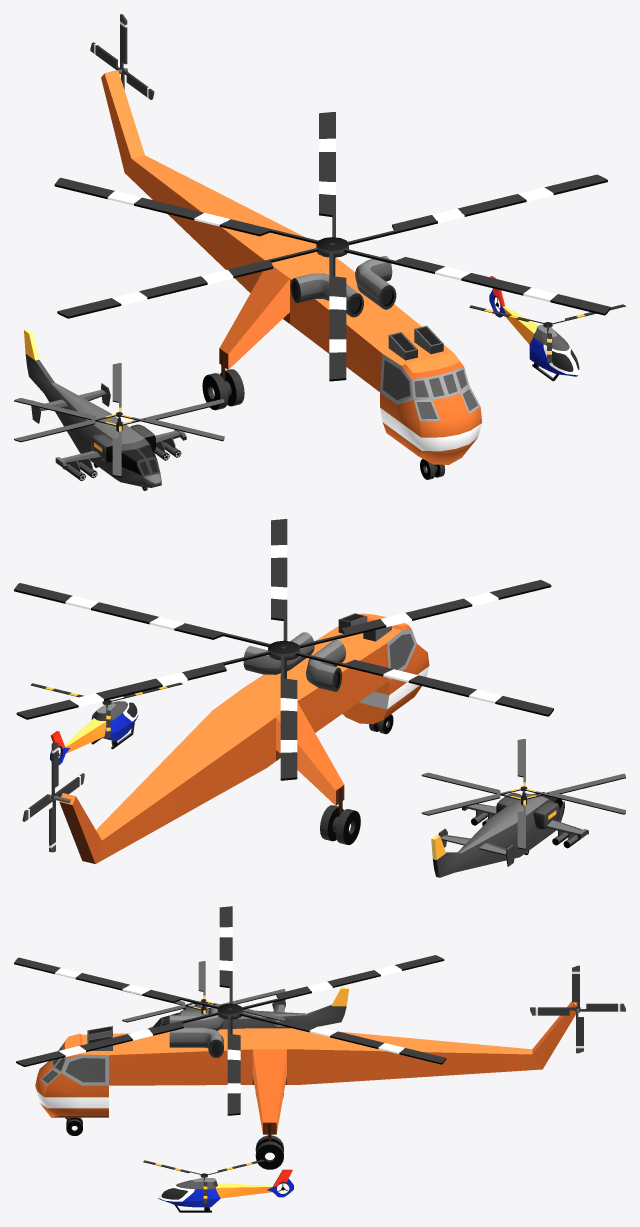
3 views of the same model, one above another, from view 1: azimuth 30°, elevation 25°; view 2: azimuth 150°, elevation 25°; view 3: azimuth 270°, elevation 25° (orthographic). The views are drawn at different scales.
Parts seen in each view (by area): view 1: Body.003, Rotor.001, Body.004, Body.005, Rotor_Twin_Upper, Rotor_Twin_Lower, Rotor_Back.003; view 2: Body.003, Rotor.001, Body.004, Body.005, Rotor_Back.003, Rotor_Twin_Upper, Rotor_Twin_Lower, Rotor.002; view 3: Body.003, Rotor.001, Body.005, Body.004, Rotor_Back.003, Rotor_Twin_Upper, Rotor.002, Rotor_Twin_Lower.
Boxes of the visible parts, x1=… form: Body.003: x1=101, y1=70, x2=482, y2=479; Rotor.001: x1=54, y1=112, x2=610, y2=381; Body.004: x1=24, y1=329, x2=186, y2=490; Body.005: x1=489, y1=276, x2=580, y2=381; Rotor_Twin_Upper: x1=14, y1=363, x2=224, y2=442; Rotor_Twin_Lower: x1=14, y1=398, x2=224, y2=476; Rotor_Back.003: x1=90, y1=14, x2=154, y2=99; Body.003: x1=59, y1=613, x2=429, y2=863; Rotor.001: x1=14, y1=519, x2=553, y2=780; Body.004: x1=431, y1=792, x2=588, y2=877; Body.005: x1=50, y1=701, x2=138, y2=764; Rotor_Back.003: x1=22, y1=742, x2=84, y2=852; Rotor_Twin_Upper: x1=421, y1=739, x2=625, y2=815; Rotor_Twin_Lower: x1=421, y1=772, x2=625, y2=849; Rotor.002: x1=30, y1=682, x2=182, y2=738; Body.003: x1=35, y1=1001, x2=576, y2=1169; Rotor.001: x1=14, y1=906, x2=446, y2=1115; Body.005: x1=157, y1=1169, x2=293, y2=1212; Body.004: x1=147, y1=987, x2=349, y2=1029; Rotor_Back.003: x1=530, y1=965, x2=625, y2=1053; Rotor_Twin_Upper: x1=122, y1=961, x2=285, y2=1022; Rotor.002: x1=143, y1=1159, x2=264, y2=1204; Rotor_Twin_Lower: x1=122, y1=989, x2=285, y2=1015.
Size of what is drawn, in the model's own units: 2.6 by 0.9032 by 2.9.
1 material, 1 textured.
